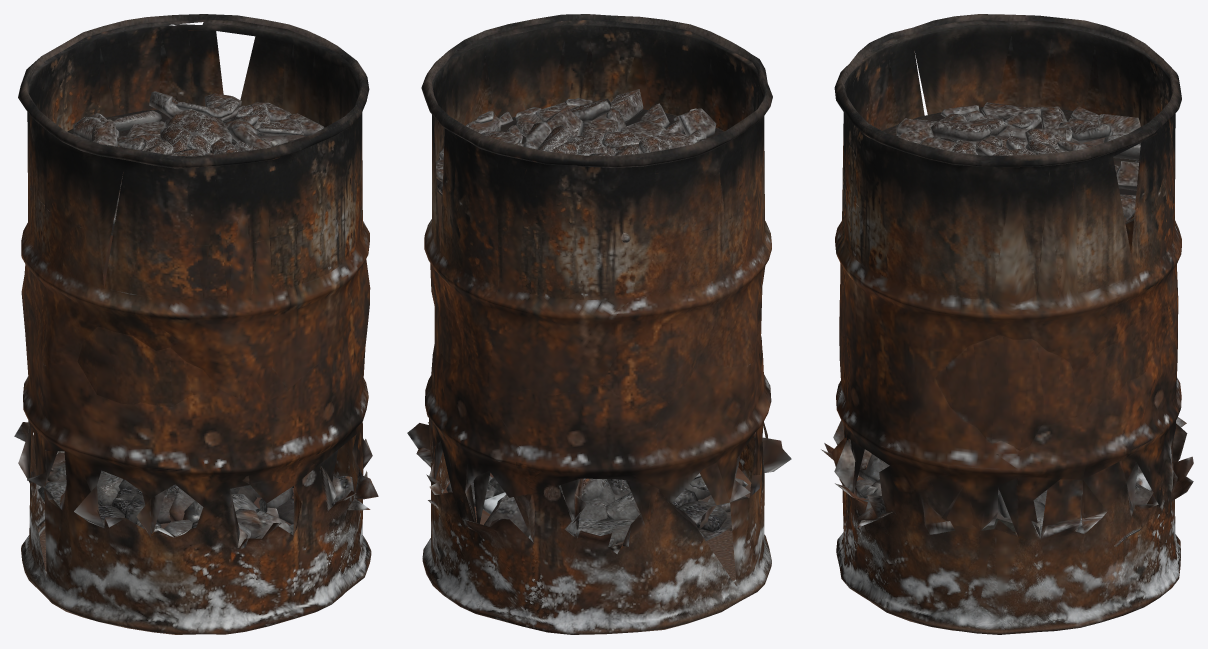
File: jt_burn_barrel.glb
3 renders of one model, left to right at view 1: azimuth 30°, elevation 25°; view 2: azimuth 150°, elevation 25°; view 3: azimuth 270°, elevation 25°, orthographic.
Size of the model in its own units: 0.6704 by 0.9497 by 0.6719.
Materials: 1 (1 with a texture image).
